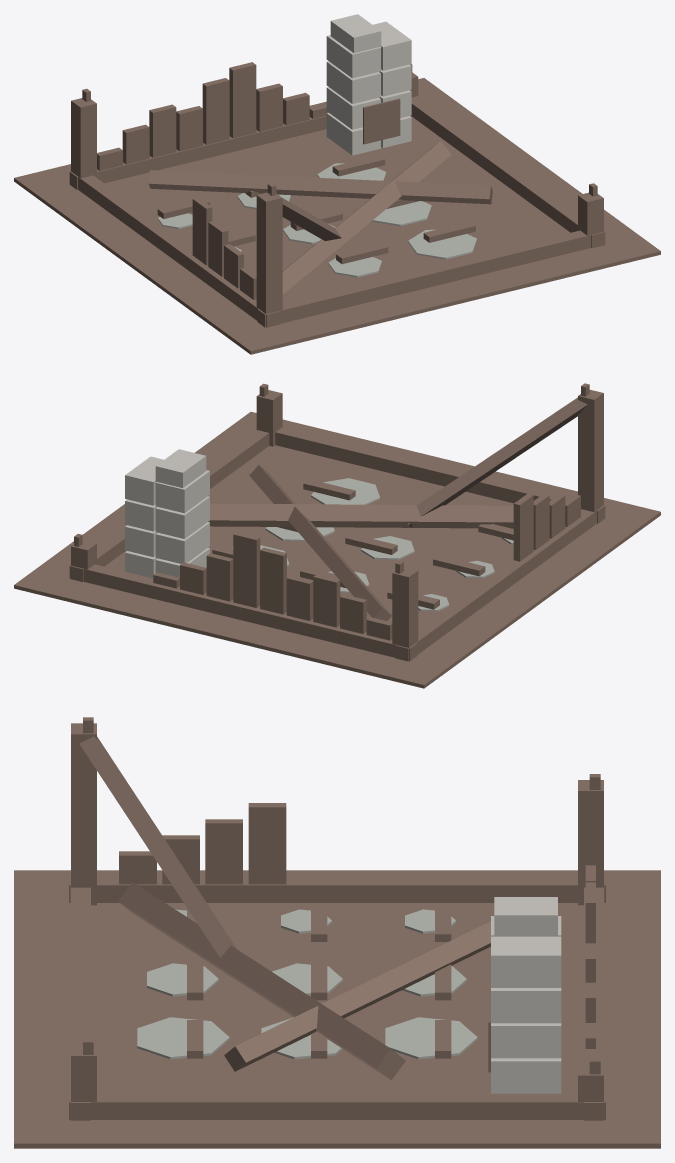
The model's file is ruin-wood.glb.
3 views of the same model, one above another, from view 1: azimuth 30°, elevation 25°; view 2: azimuth 150°, elevation 25°; view 3: azimuth 270°, elevation 25° (orthographic). The views are drawn at different scales.
Parts seen in each view (by area): view 1: ruin-wood_char, ruin-wood_stone, ruin-wood_ash; view 2: ruin-wood_char, ruin-wood_stone, ruin-wood_ash; view 3: ruin-wood_char, ruin-wood_stone, ruin-wood_ash.
Part boxes in pixels (<box>): ruin-wood_char: <box>14,62,660,354</box>; ruin-wood_stone: <box>326,14,411,155</box>; ruin-wood_ash: <box>158,163,477,277</box>; ruin-wood_char: <box>14,383,660,688</box>; ruin-wood_stone: <box>125,449,209,578</box>; ruin-wood_ash: <box>232,478,513,611</box>; ruin-wood_char: <box>14,717,660,1148</box>; ruin-wood_stone: <box>491,897,561,1093</box>; ruin-wood_ash: <box>137,909,477,1059</box>.
Bounding box in the file's own units: 2 × 0.6433 × 2.
